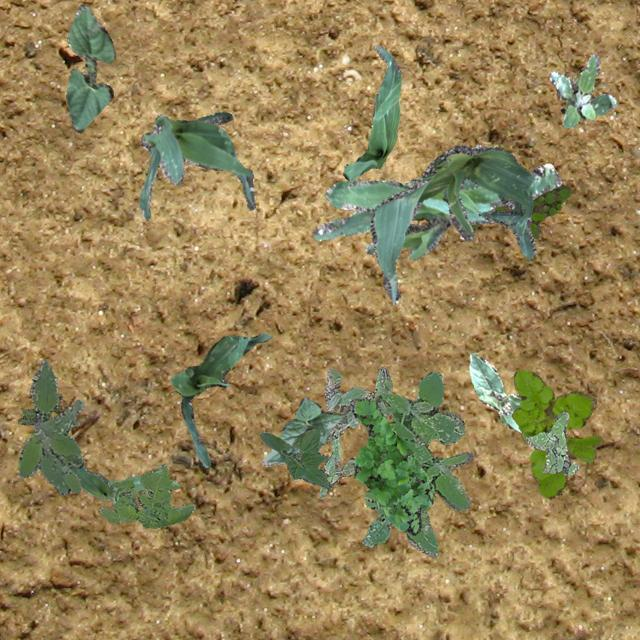crop: (312, 144, 562, 258), (370, 144, 534, 304), (170, 332, 270, 467), (138, 112, 255, 220), (342, 44, 399, 180), (64, 3, 114, 132), (262, 396, 342, 466), (258, 428, 330, 488), (468, 352, 520, 431), (74, 464, 142, 498)
weed: (360, 369, 472, 556), (511, 368, 602, 498), (348, 398, 433, 534), (318, 366, 392, 498), (18, 358, 84, 494), (98, 463, 194, 528), (469, 184, 569, 238), (548, 52, 616, 126), (524, 411, 578, 474), (16, 392, 62, 423)
